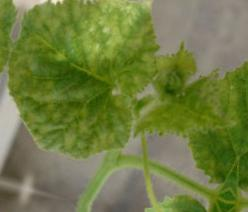Tomato leaf mosaic virus: (0, 0, 165, 168)
